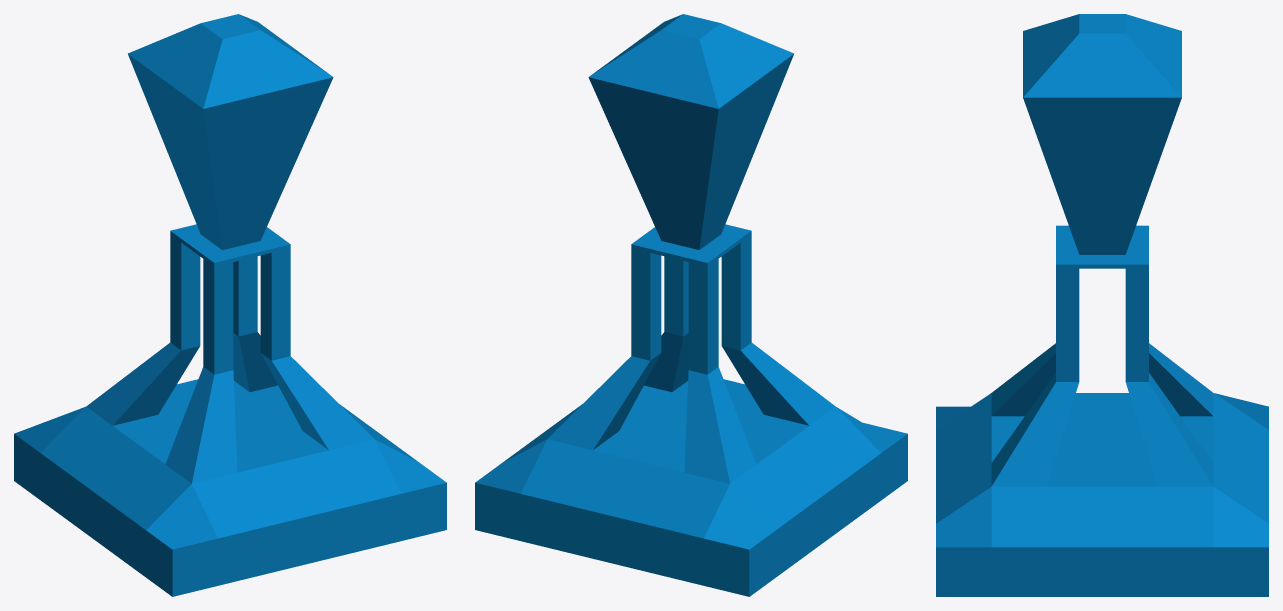
Rendered from player3.obj.
The picture shows the model from 3 angles, left to right: view 1: azimuth 30°, elevation 25°; view 2: azimuth 150°, elevation 25°; view 3: azimuth 270°, elevation 25°; orthographic projection. The views are drawn at different scales.
Parts seen in each view (by area): view 1: Cube.001; view 2: Cube.001; view 3: Cube.001.
Part boxes in pixels (bbox=[...]): Cube.001: bbox=[14, 14, 446, 596]; Cube.001: bbox=[475, 14, 907, 596]; Cube.001: bbox=[936, 14, 1268, 596].
Size of the model in its own units: 0.5764 by 0.9609 by 0.5764.
